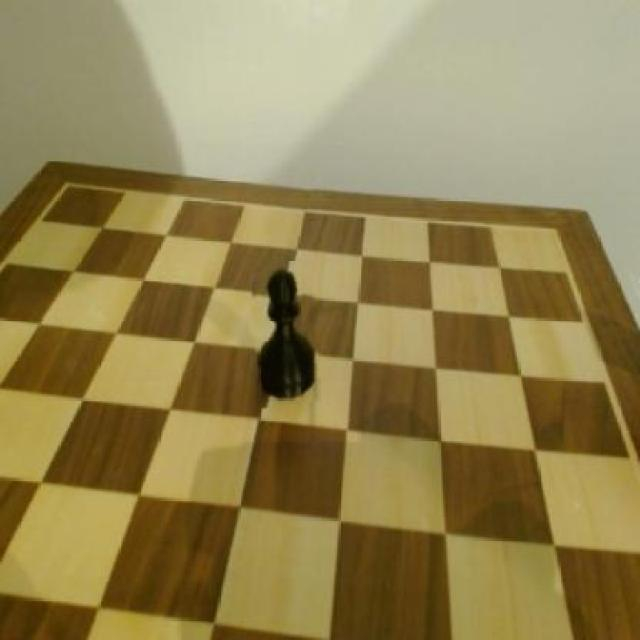black-knight: (252, 260, 320, 407)
